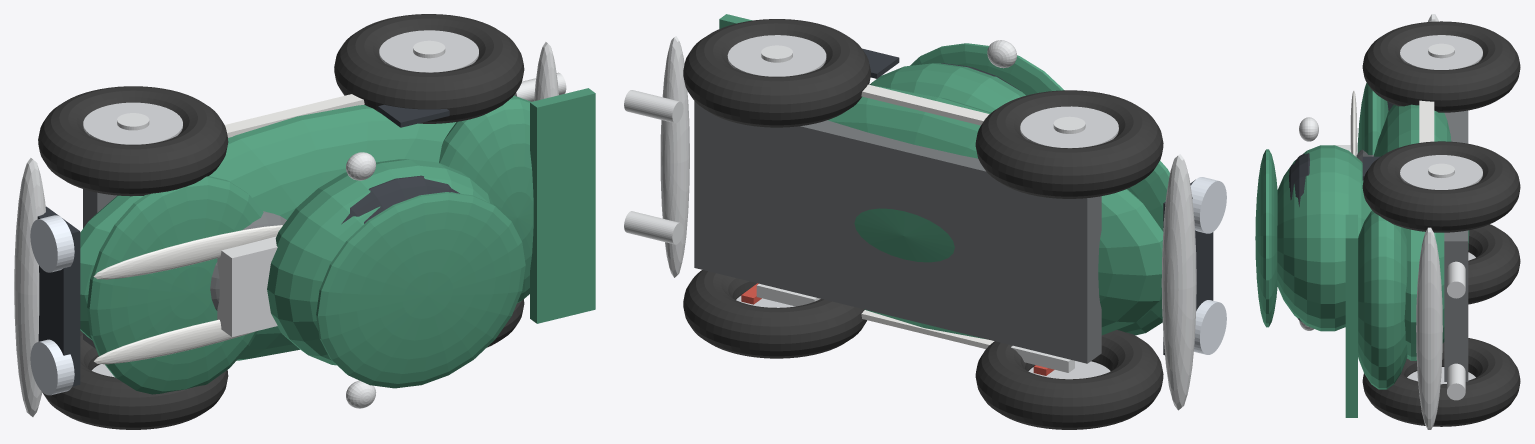
Rendered from green_car.glb.
3 views of the same model, side by side, from view 1: azimuth 30°, elevation 25°; view 2: azimuth 150°, elevation 25°; view 3: azimuth 270°, elevation 25° (orthographic). The views are drawn at different scales.
Parts seen in each view (by area): view 1: Roof_Skin, Hood, Body_Main, Rear_Aero_Lip, FrontWheel_R, RearWheel_R, Cabin, Rear_Quarter, FrontWheel_L, Front_Bumper, Engine_Intake, Front_Grille (+14 smaller); view 2: Chassis, Body_Main, FrontWheel_R, RearWheel_R, FrontWheel_L, RearWheel_L, Front_Bumper, Rear_Bumper, Cabin, RearRim_R, FrontRim_R, Roof_Skin (+13 smaller); view 3: Cabin, RearWheel_R, FrontWheel_R, Rear_Quarter, RearWheel_L, Rear_Bumper, Body_Main, Chassis, Roof_Skin, FrontWheel_L, Rear_Aero_Lip, FrontRim_R (+10 smaller).
Part boxes in pixels (x1,y1,x2,y2): Roof_Skin: (316, 192, 525, 388); Hood: (87, 176, 263, 394); Body_Main: (80, 105, 455, 360); Rear_Aero_Lip: (530, 88, 595, 323); FrontWheel_R: (38, 86, 228, 196); RearWheel_R: (334, 14, 524, 123); Cabin: (267, 159, 493, 365); Rear_Quarter: (439, 95, 533, 303); FrontWheel_L: (42, 330, 228, 429); Front_Bumper: (14, 158, 45, 416); Engine_Intake: (217, 236, 277, 336); Front_Grille: (37, 206, 80, 386); Chassis: (694, 101, 1101, 363); Body_Main: (828, 86, 1163, 338); FrontWheel_R: (975, 90, 1163, 198); RearWheel_R: (683, 19, 870, 127); FrontWheel_L: (975, 330, 1163, 429); RearWheel_L: (683, 270, 866, 358); Front_Bumper: (1161, 154, 1196, 410); Rear_Bumper: (660, 36, 689, 277); Cabin: (869, 63, 1025, 112); RearRim_R: (727, 35, 826, 76); FrontRim_R: (1020, 106, 1118, 148); Roof_Skin: (910, 43, 1064, 95); Cabin: (1277, 145, 1371, 331); RearWheel_R: (1362, 141, 1520, 232); FrontWheel_R: (1362, 21, 1520, 112); Rear_Quarter: (1358, 210, 1407, 389); RearWheel_L: (1362, 338, 1520, 426); Rear_Bumper: (1416, 227, 1442, 429); Body_Main: (1373, 104, 1469, 360); Chassis: (1444, 110, 1468, 381); Roof_Skin: (1255, 149, 1277, 327); FrontWheel_L: (1468, 224, 1520, 304); Rear_Aero_Lip: (1345, 214, 1357, 417); FrontRim_R: (1400, 35, 1482, 69).
Bounding box in the file's own units: 3.99 × 1.92 × 1.98.
